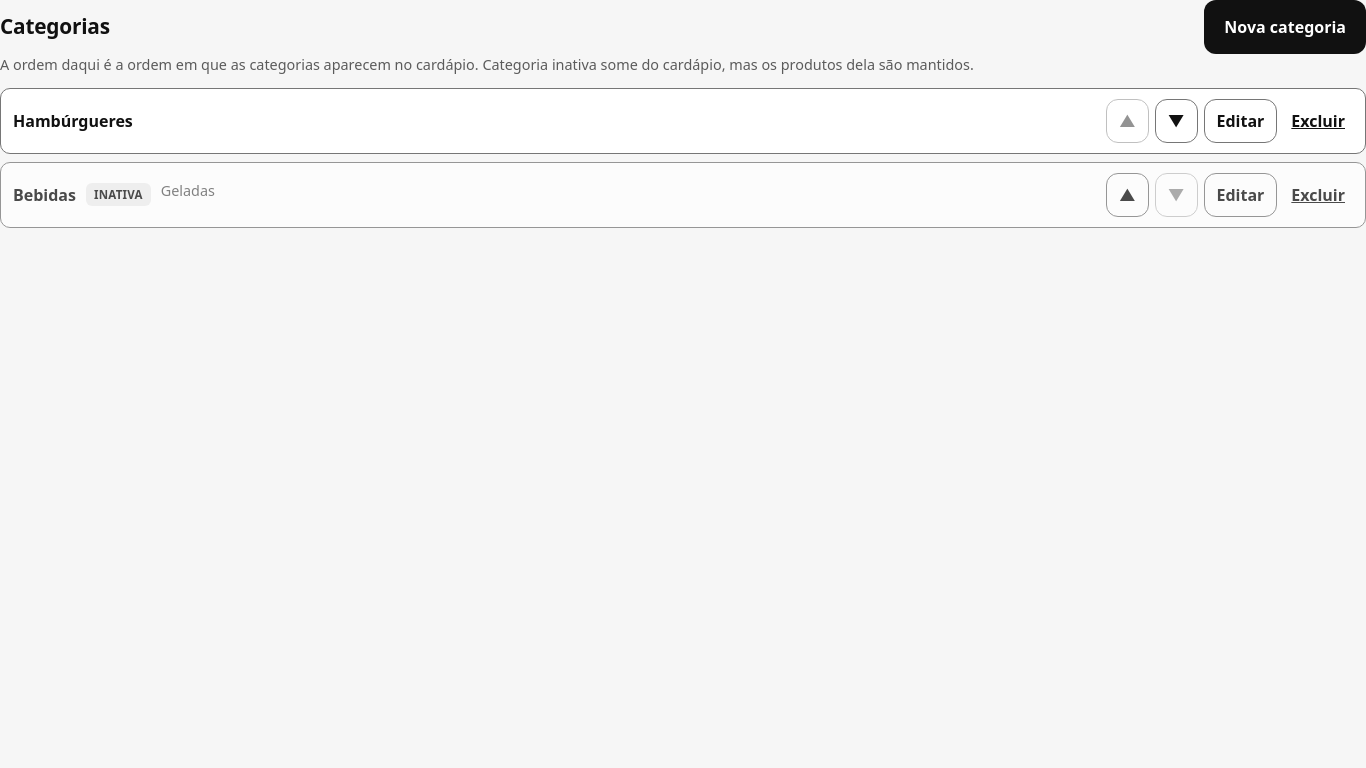
Test: Admin: categorias › edita: desativar tira do cardápio mas mantém na lista
Click the button with aria-label "Editar Hambúrgueres" at x=1240, y=121, box x1=1204 y1=99 x2=1277 y2=143
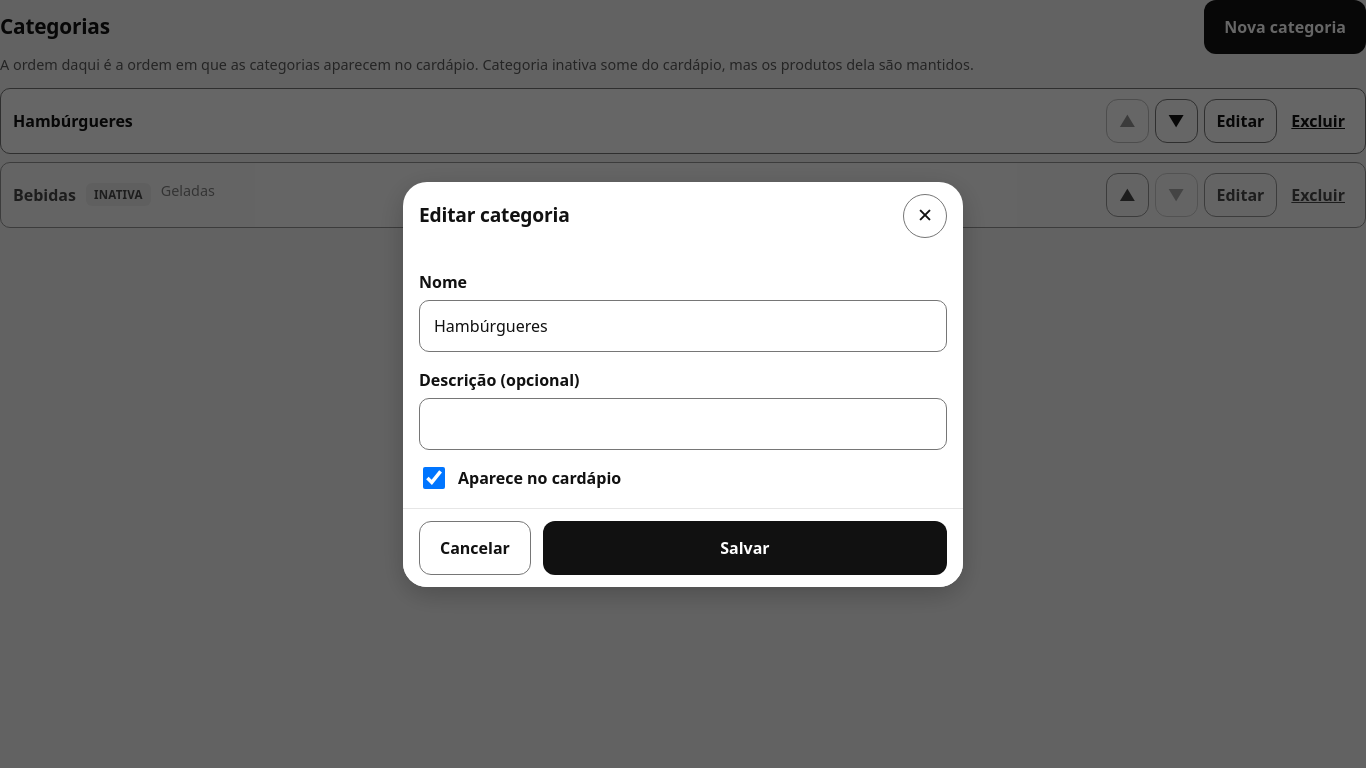
Click the checkbox labelled "Aparece no cardápio" at x=434, y=478, box x1=423 y1=466 x2=445 y2=488
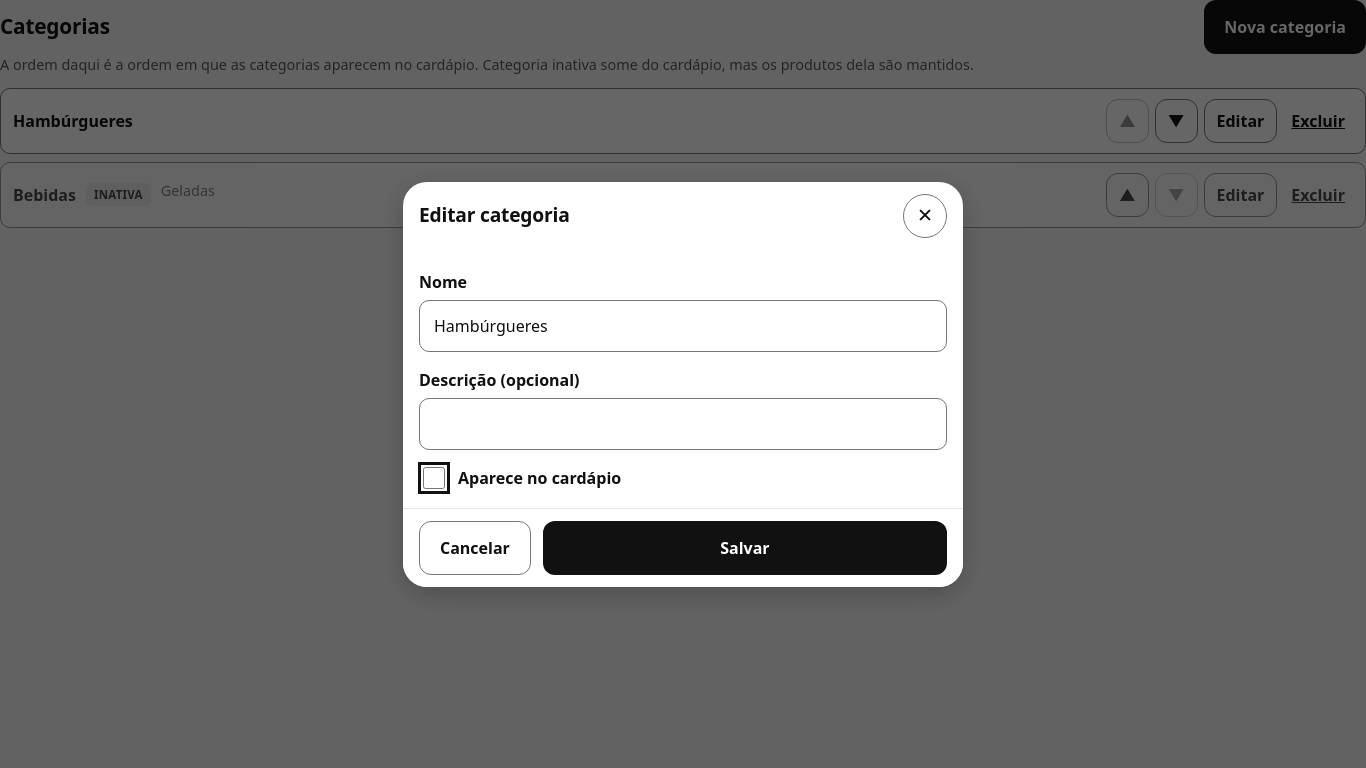
Click the button "Salvar" at x=745, y=548, box x1=543 y1=520 x2=947 y2=574
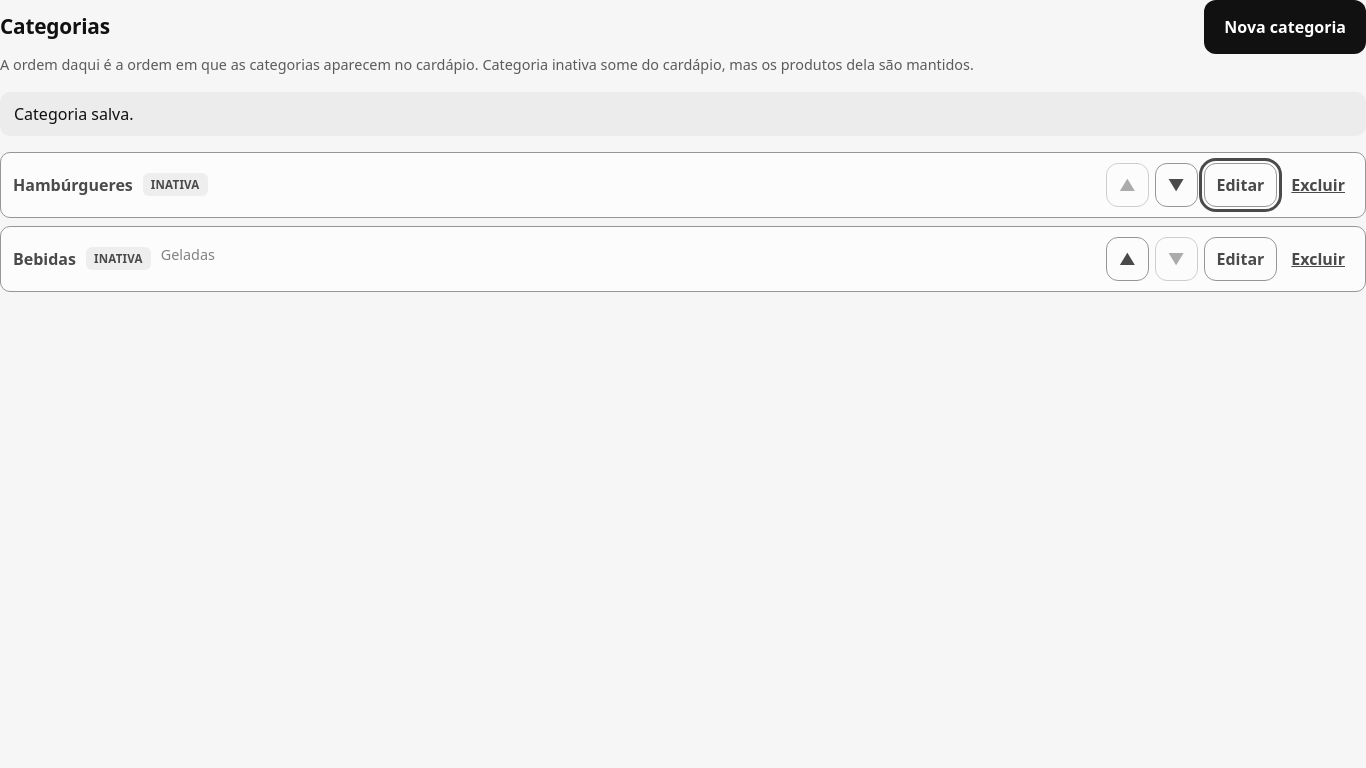
Expected: the text "Categoria salva." is shown, x1=0 y1=92 x2=1365 y2=136
Expected: the text "Inativa" is shown 2 times, x1=143 y1=173 x2=208 y2=196; x1=86 y1=247 x2=151 y2=270
